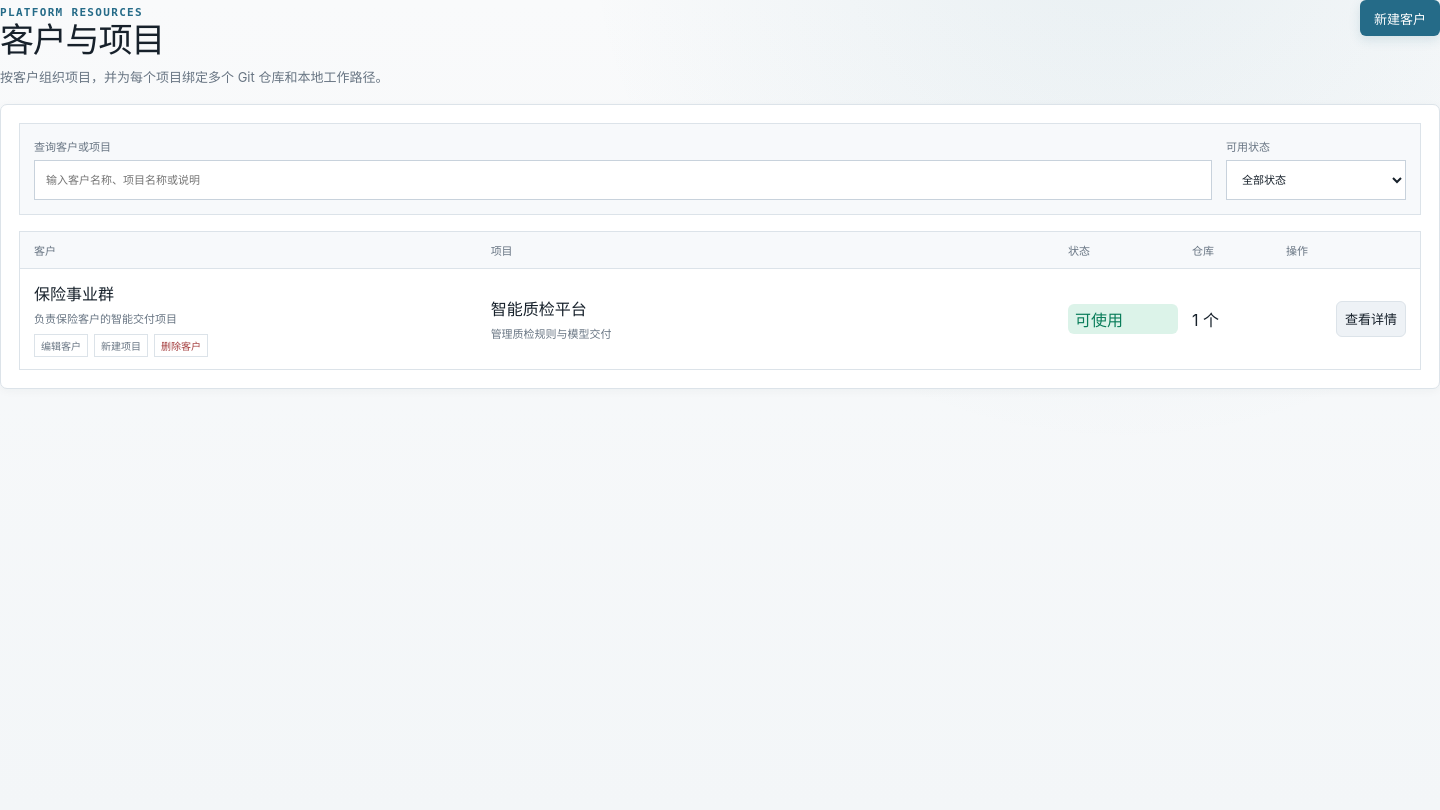
Scenario: 平台资源配置 › 列表详情和编辑弹窗支持 Escape 关闭并恢复触发按钮焦点
Click the button with aria-label "查看智能质检平台详情" at (1371, 319), box [1336, 301, 1406, 337]
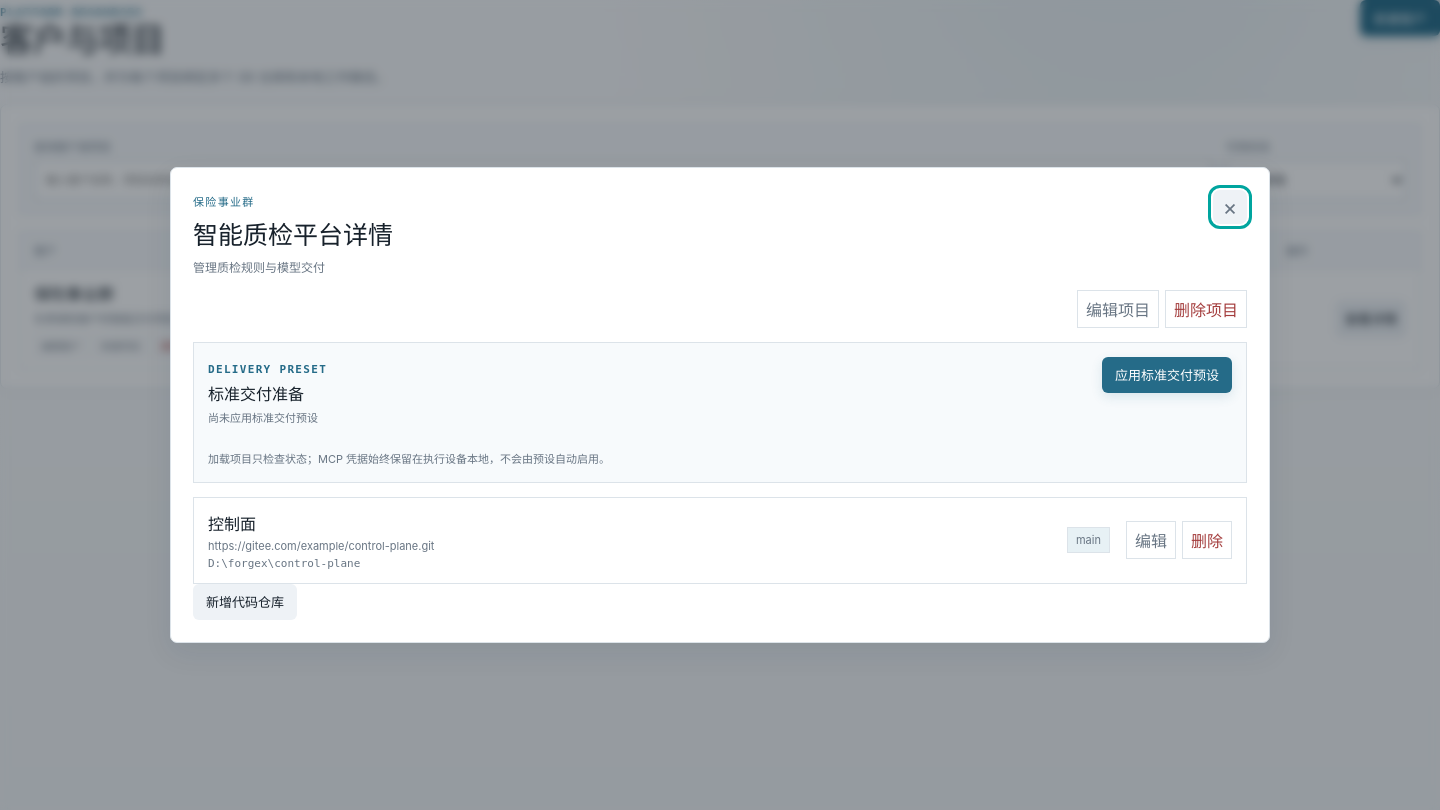
Press Escape
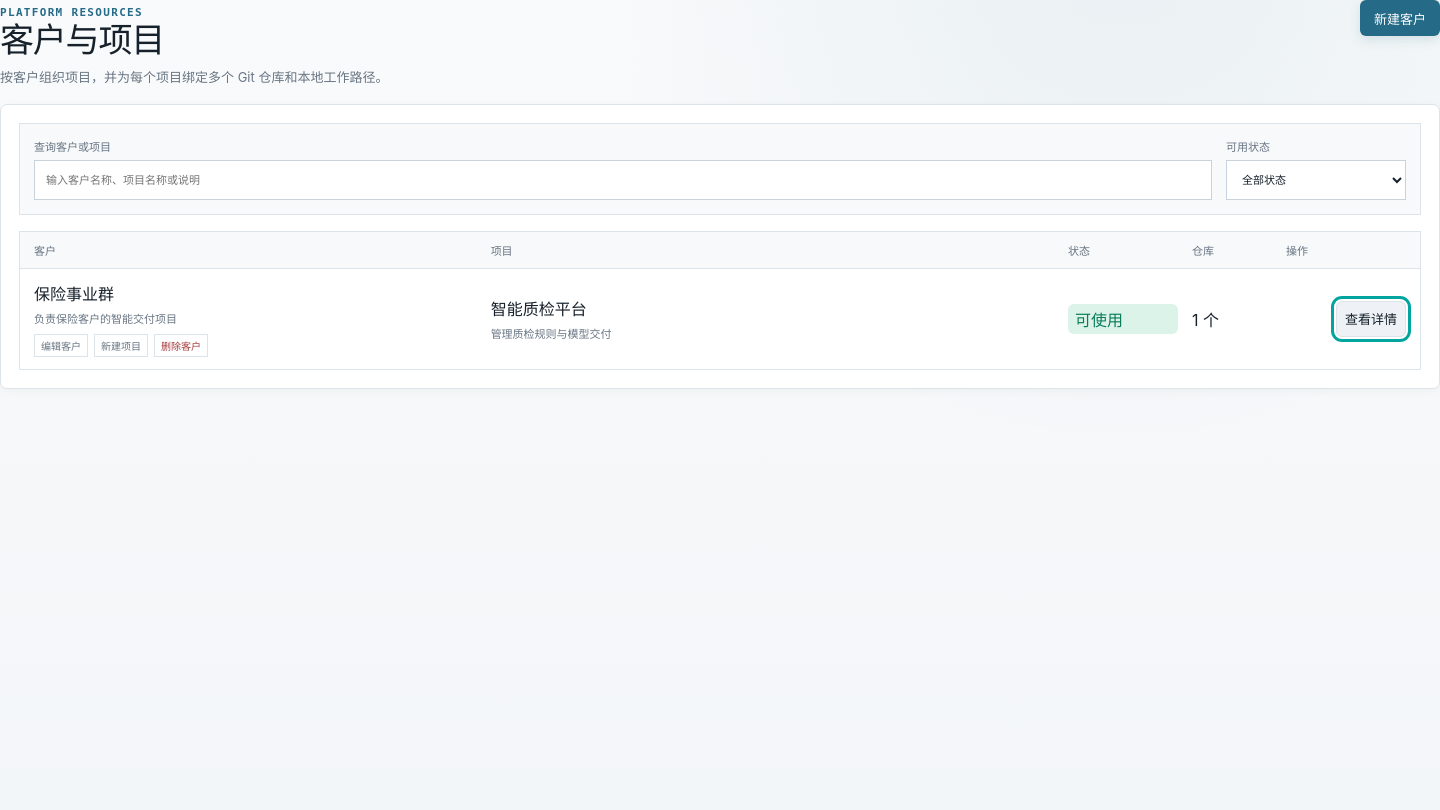
Result: the dialog is gone
Click the button "新建客户" at (1400, 18), box [1360, 0, 1439, 36]
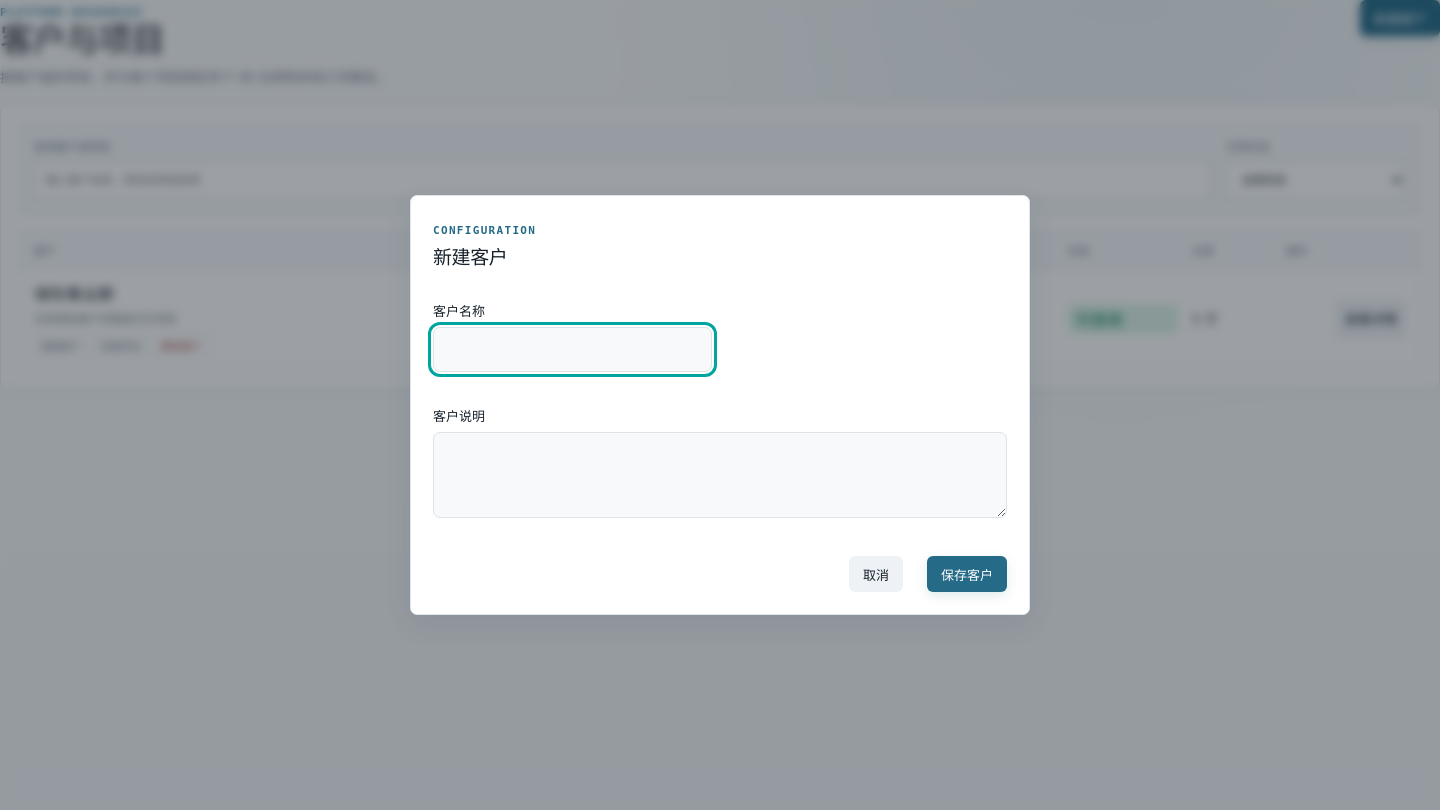
Press Escape
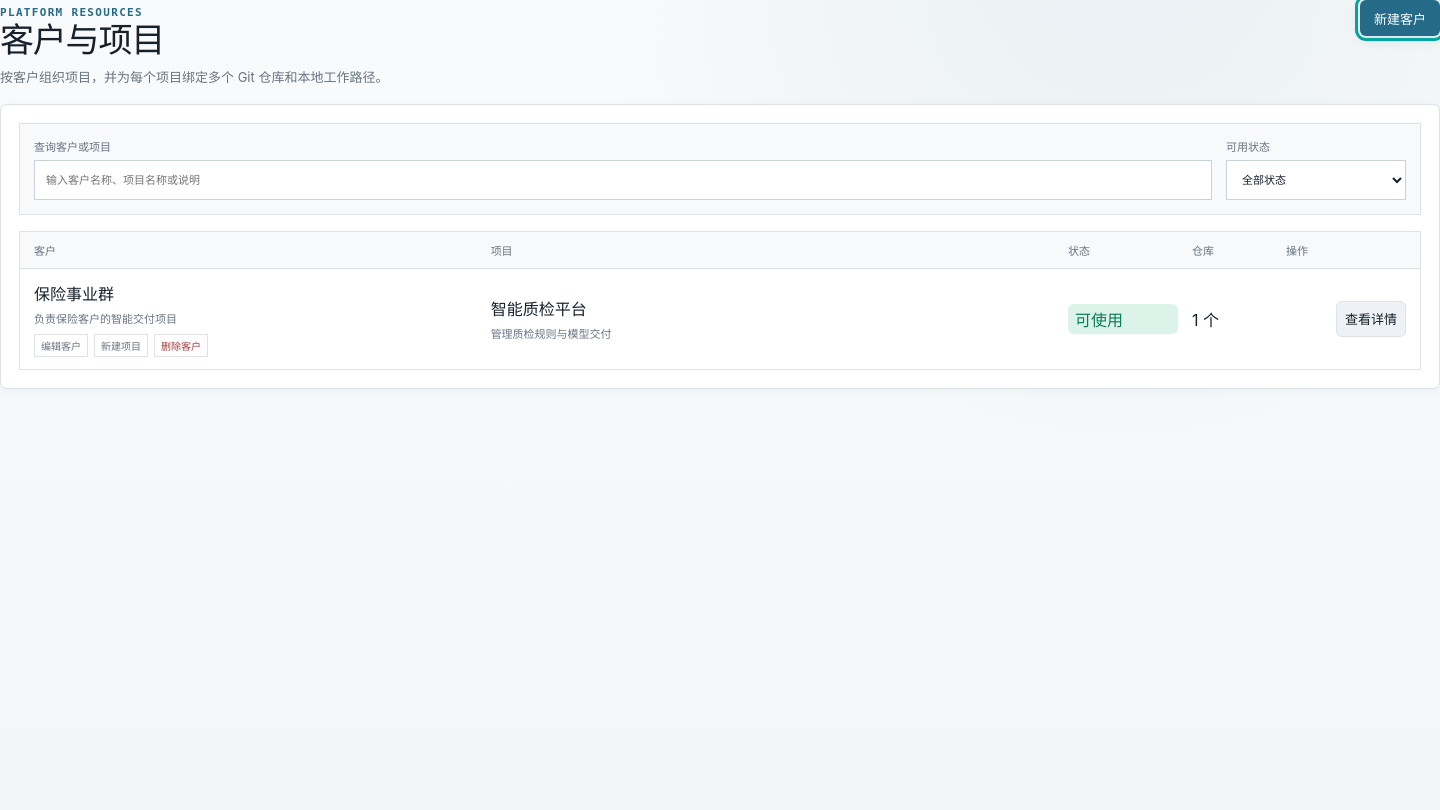
Result: the dialog is gone
